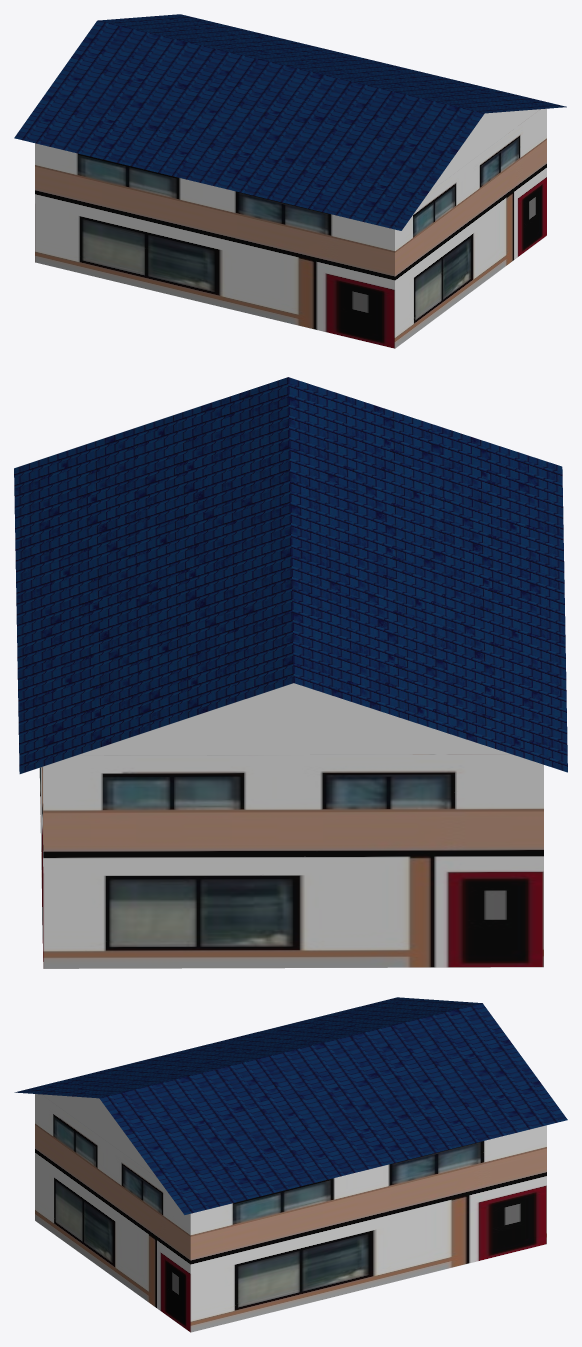
3 views of the same model, one above another, from view 1: azimuth 30°, elevation 25°; view 2: azimuth 150°, elevation 25°; view 3: azimuth 270°, elevation 25° (orthographic). The views are drawn at different scales.
Visible parts, largest first — view 1: CityEngineMaterial_6_m, CityEngineMaterial_5_m, CityEngineMaterial_3_m; view 2: CityEngineMaterial_6_m, CityEngineMaterial_5_m, CityEngineMaterial_3_m; view 3: CityEngineMaterial_6_m, CityEngineMaterial_5_m, CityEngineMaterial_3_m.
Part boxes in pixels (box(x1,y1,x2,y2)): CityEngineMaterial_6_m: box(14, 14, 566, 230); CityEngineMaterial_5_m: box(35, 108, 546, 348); CityEngineMaterial_3_m: box(429, 109, 539, 191); CityEngineMaterial_6_m: box(14, 377, 567, 773); CityEngineMaterial_5_m: box(39, 754, 543, 968); CityEngineMaterial_3_m: box(76, 683, 510, 755); CityEngineMaterial_6_m: box(14, 997, 567, 1214); CityEngineMaterial_5_m: box(35, 1094, 546, 1332); CityEngineMaterial_3_m: box(42, 1094, 156, 1176).
Size of the model in its own units: 32.97 by 12.81 by 35.42.
